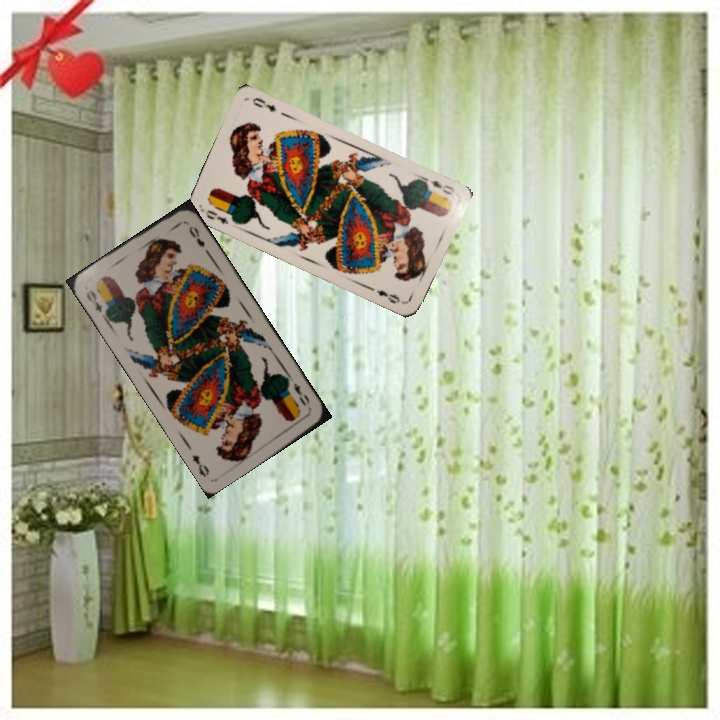EO: (418, 173, 457, 198), (197, 205, 231, 227), (289, 379, 312, 409), (82, 286, 105, 315)
